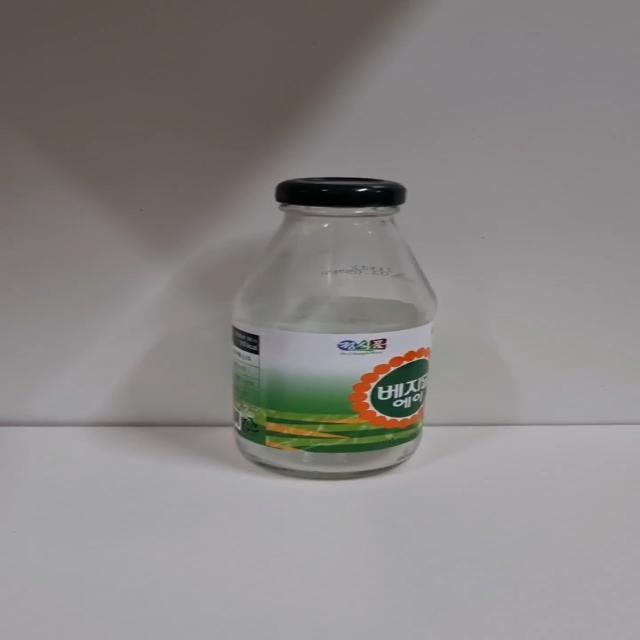Glass: (229, 176, 439, 482)
